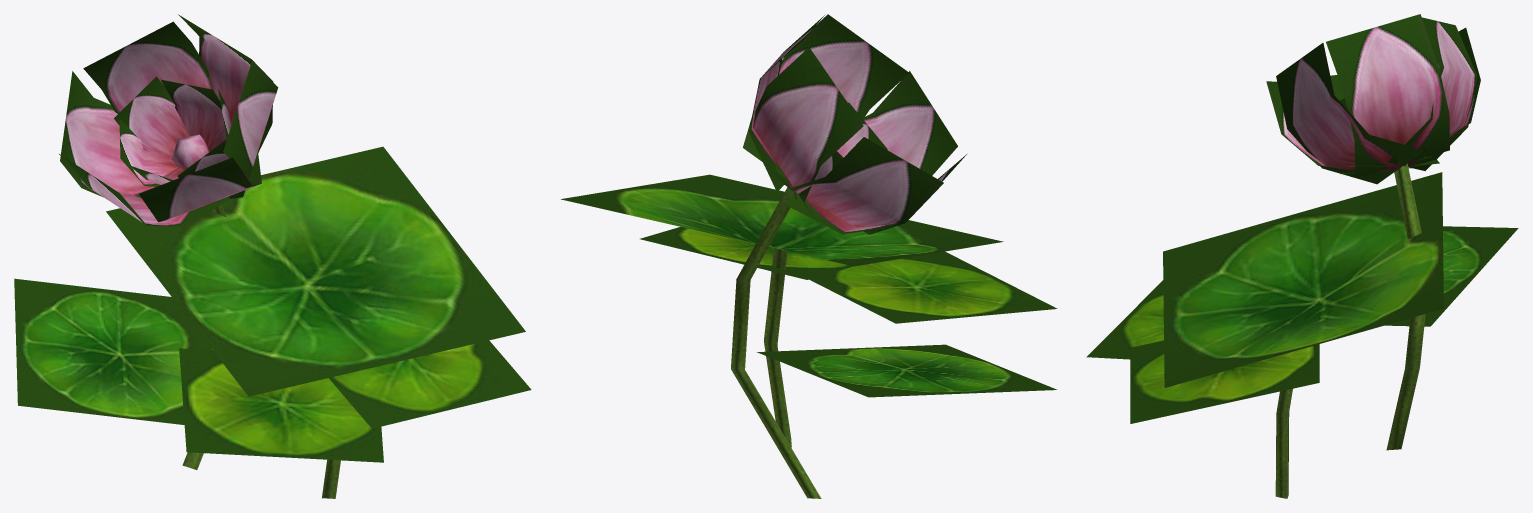
The model's file is Stage_CaoYuan_HeHua04.FBX.
3 renders of one model, left to right at view 1: azimuth 30°, elevation 25°; view 2: azimuth 150°, elevation 25°; view 3: azimuth 270°, elevation 25°, orthographic. The views are drawn at different scales.
Parts seen in each view (by area): view 1: Stage_CaoYuan_HeHua04; view 2: Stage_CaoYuan_HeHua04; view 3: Stage_CaoYuan_HeHua04.
Part boxes in pixels (box(x1,y1,x2,y2)): Stage_CaoYuan_HeHua04: box(14, 14, 531, 498); Stage_CaoYuan_HeHua04: box(561, 14, 1057, 498); Stage_CaoYuan_HeHua04: box(1086, 14, 1518, 498).
Bounding box in the file's own units: 111 × 115 × 101.
